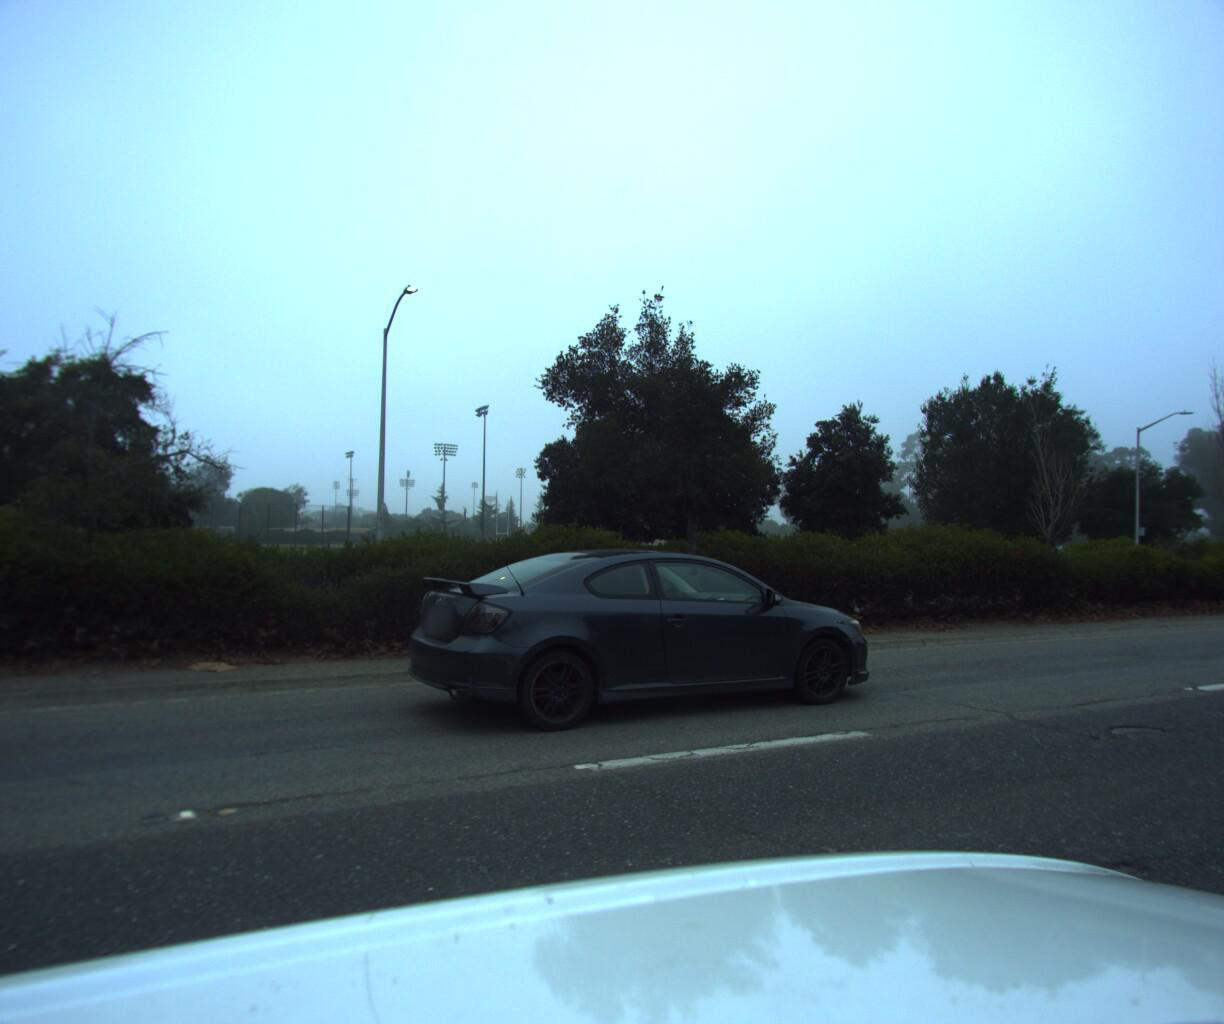car: (381, 538, 880, 749)
